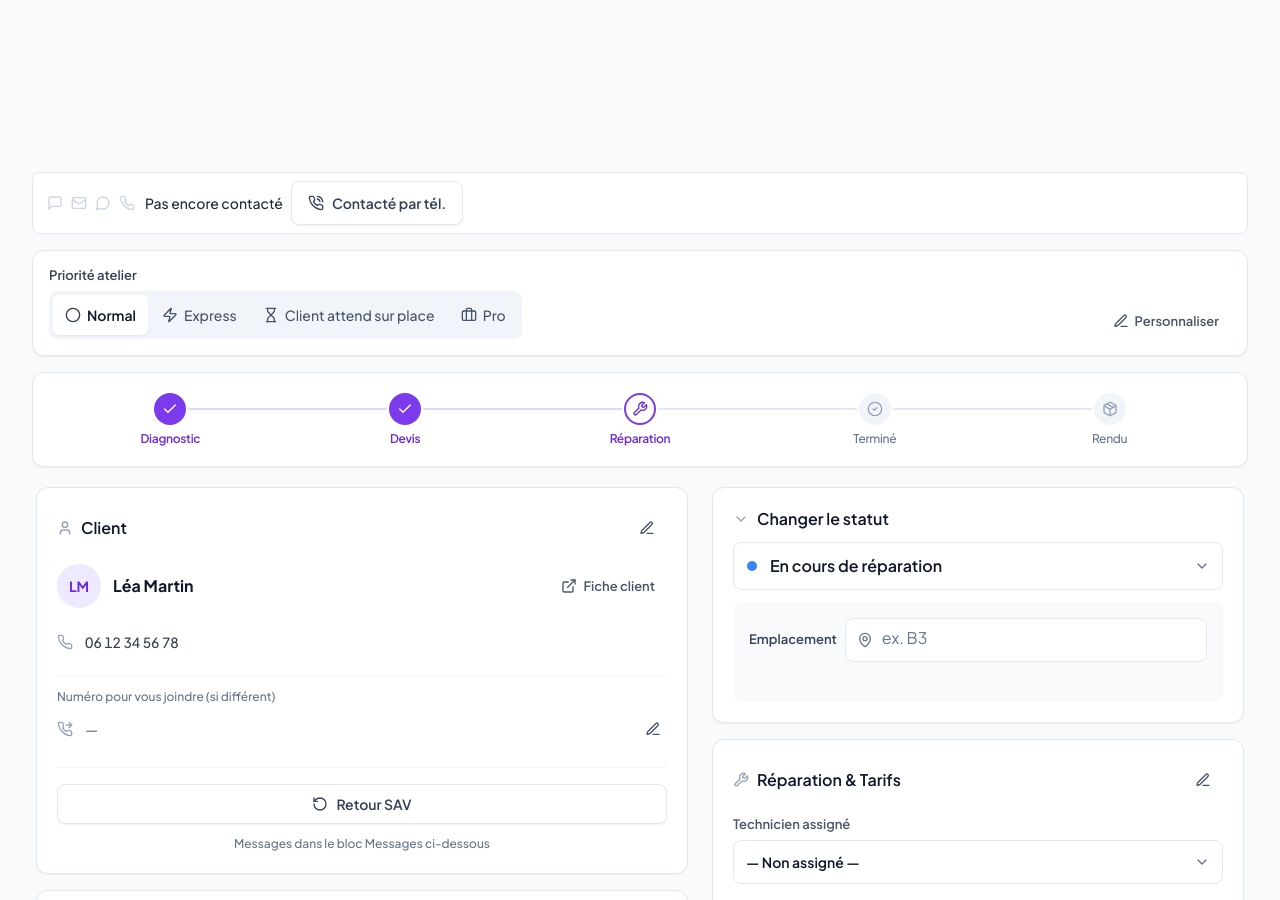
Test: Fiche : « Réparation terminée » → carte « Prévenir » › « Choisir un autre message » ouvre la grille des modèles dans la carte
Select "Réparation terminée" in the dropdown labelled "Changer le statut" at (978, 566), box x1=733 y1=542 x2=1223 y2=590
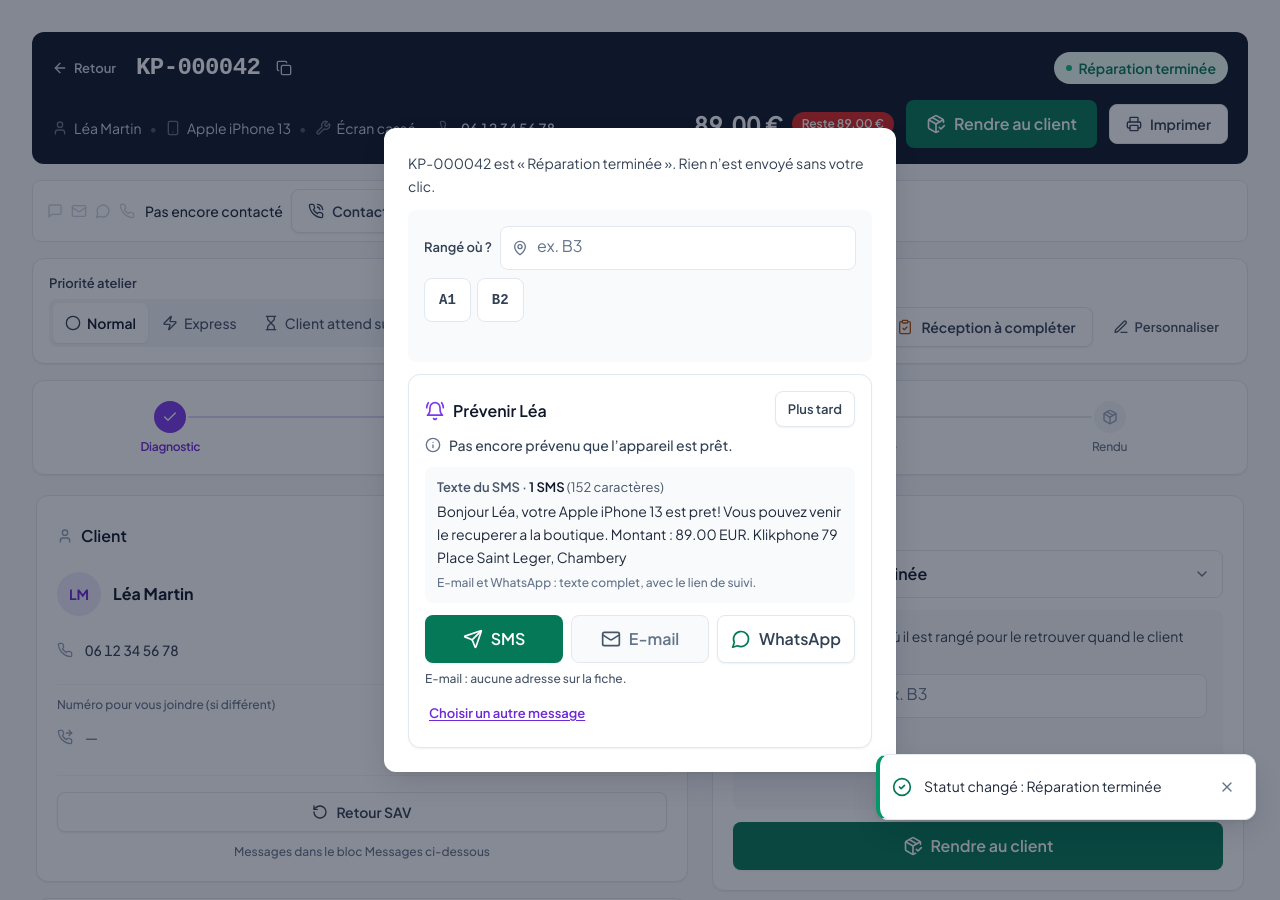
Click the button "Choisir un autre message" at (507, 713), box x1=417 y1=695 x2=597 y2=731
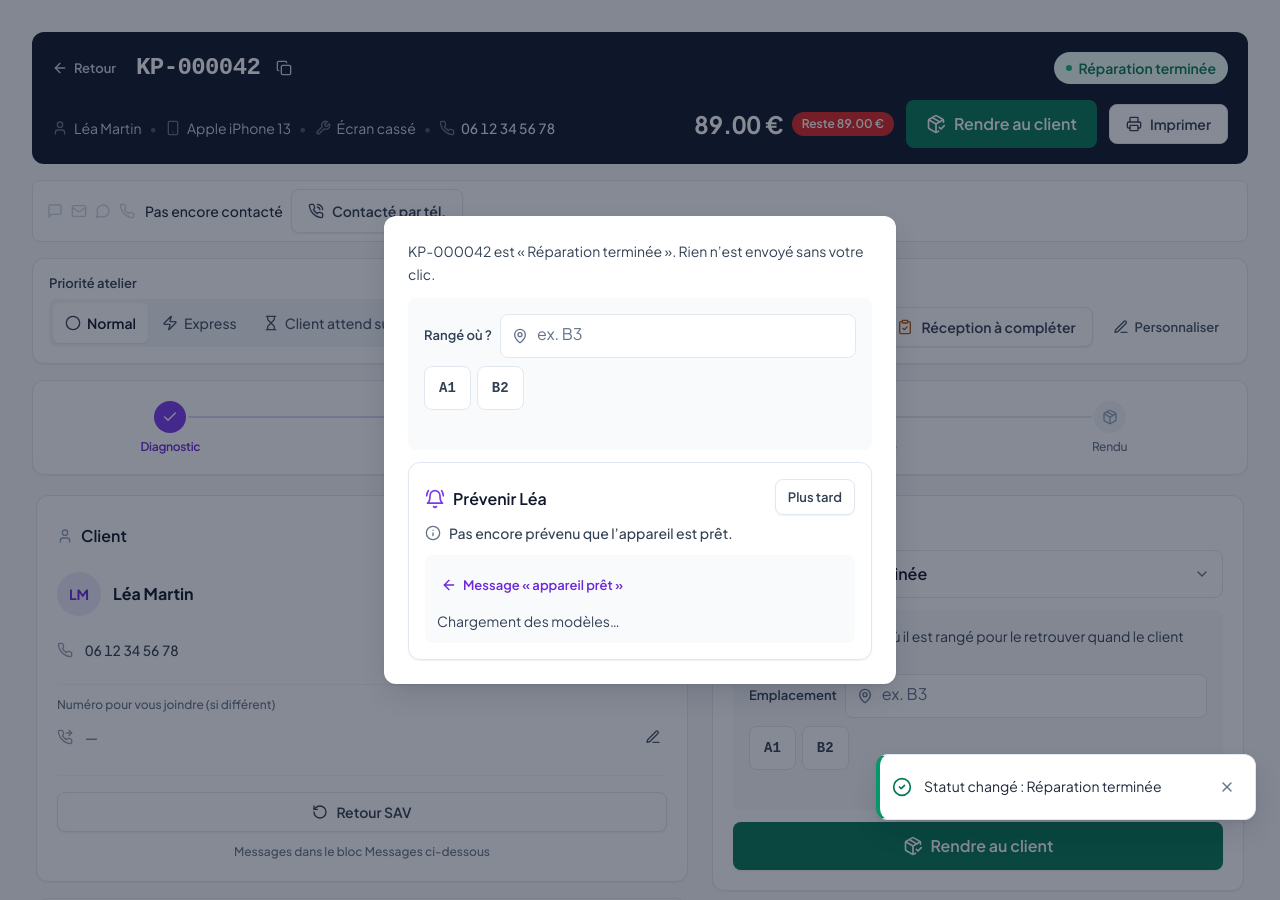
Expected: the button "Message « appareil prêt »" is shown
Click the button "Message « appareil prêt »" at (532, 585), box x1=429 y1=567 x2=635 y2=603
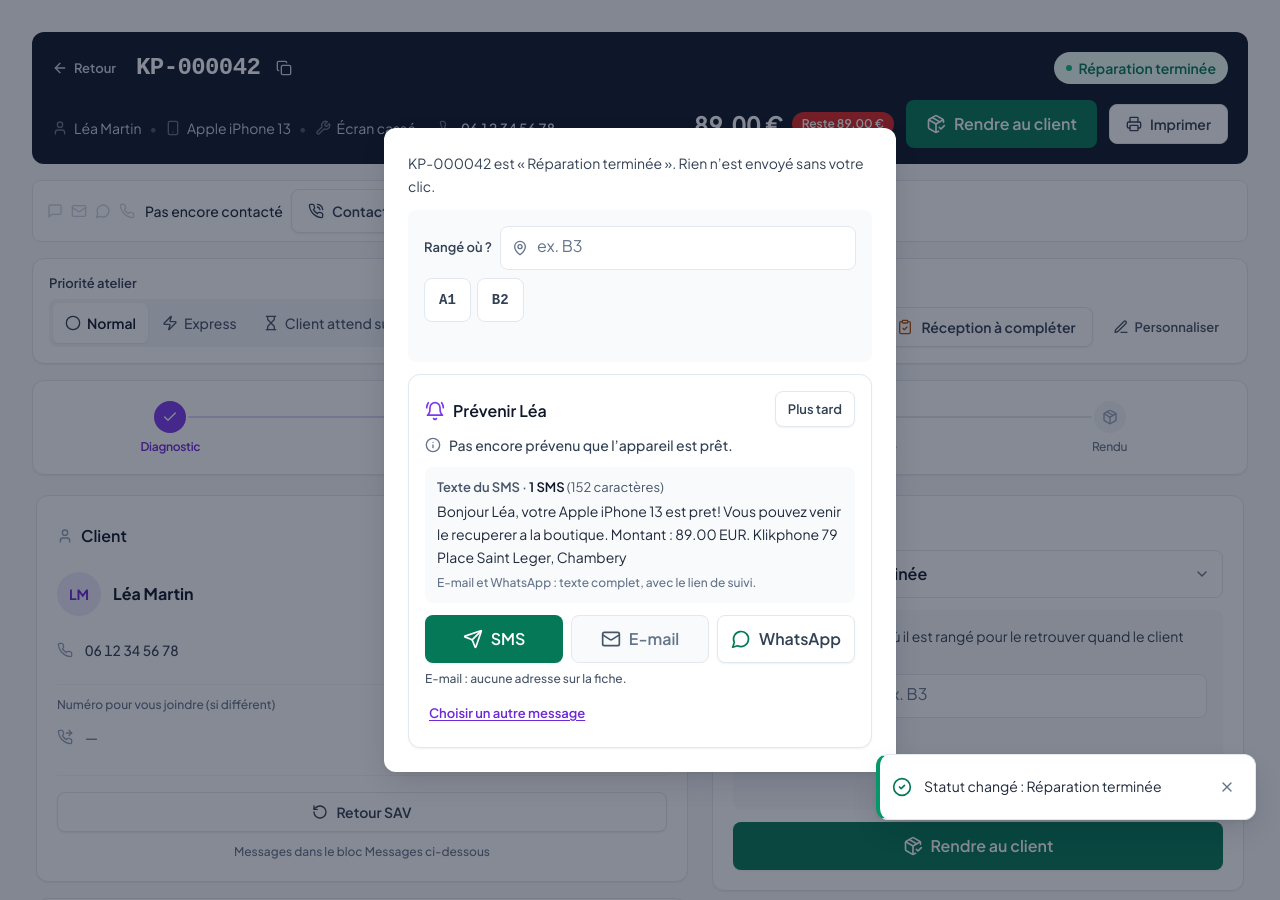
Expected: the button "SMS" is shown, x1=425 y1=615 x2=563 y2=663
